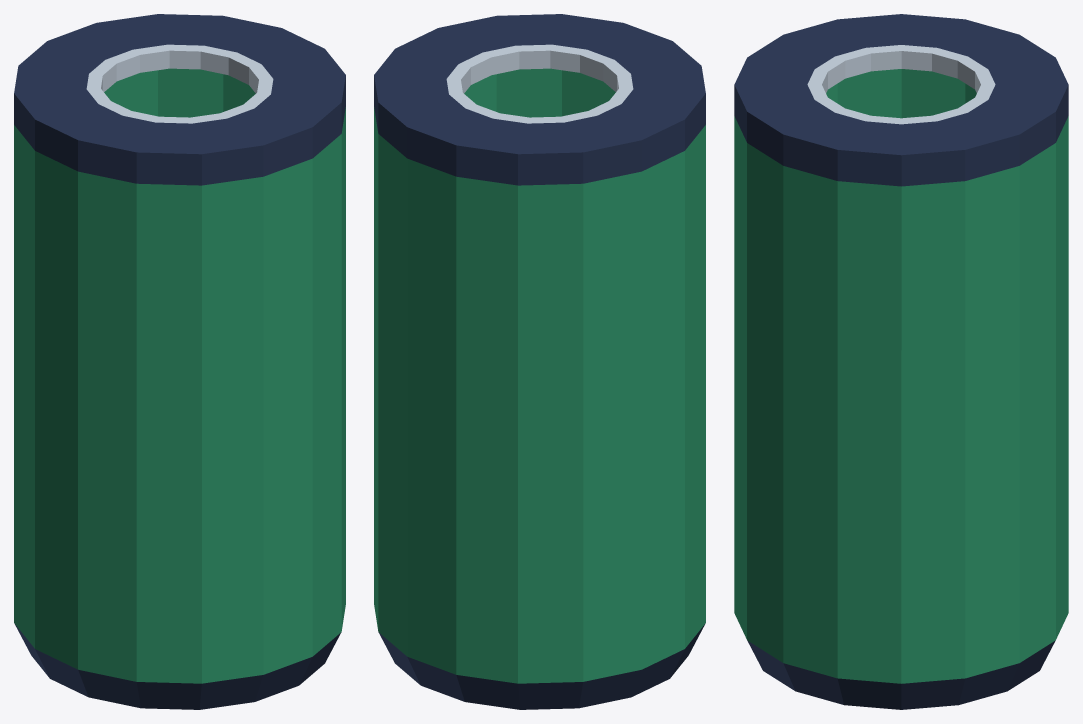
Rendered from TrashBinModel03.fbx.
3 views of the same model, side by side, from view 1: azimuth 30°, elevation 25°; view 2: azimuth 150°, elevation 25°; view 3: azimuth 270°, elevation 25° (orthographic).
Parts seen in each view (by area): view 1: TrashBin03; view 2: TrashBin03; view 3: TrashBin03.
Boxes of the visible parts, x1=… form: TrashBin03: x1=14, y1=14, x2=345, y2=709; TrashBin03: x1=374, y1=14, x2=705, y2=709; TrashBin03: x1=734, y1=14, x2=1068, y2=709.
Size of the model in its own units: 68.35 by 127 by 68.35.
